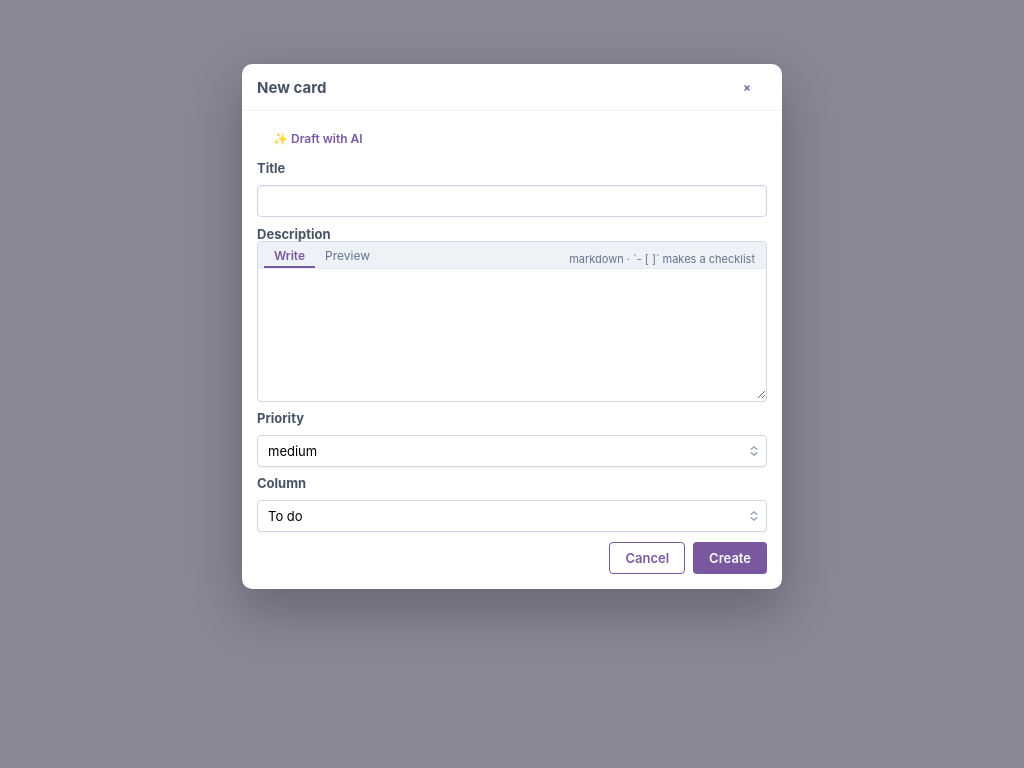
Test: DraftWithAI › shows the error code from the stream and from a plain error response
Click the button "✨ Draft with AI". click: x=318, y=139
box: [257, 126, 379, 152]
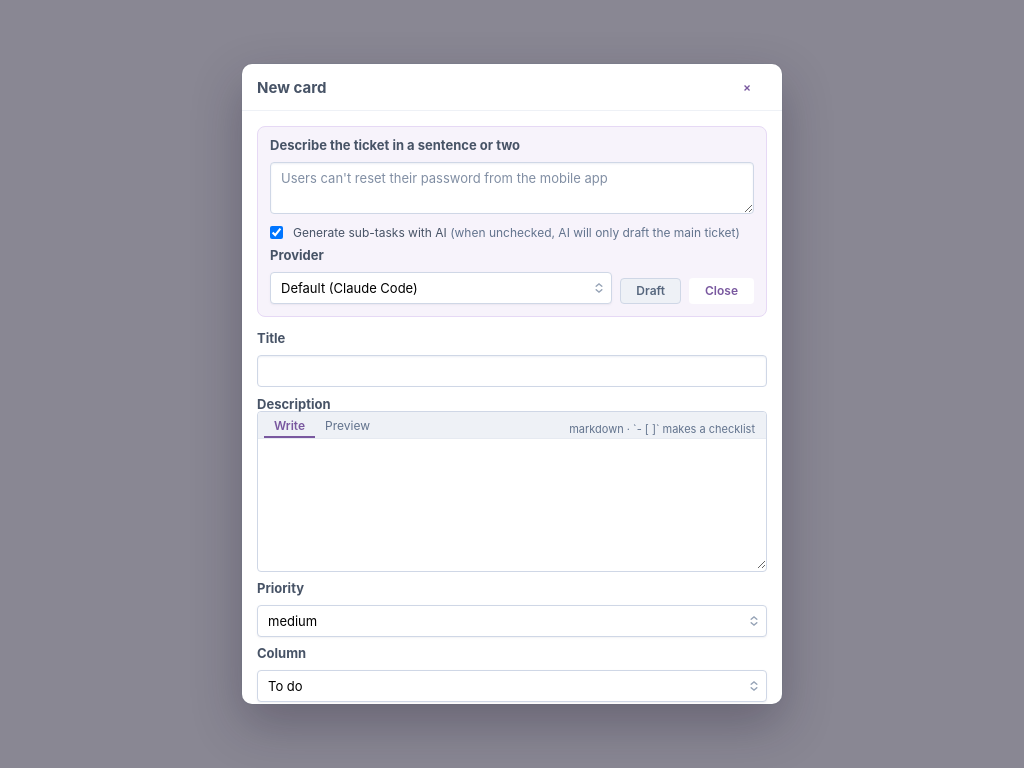
Type "x" into the text box labelled "Describe the ticket in a sentence or two". click: x=512, y=188
box: [270, 162, 754, 214]
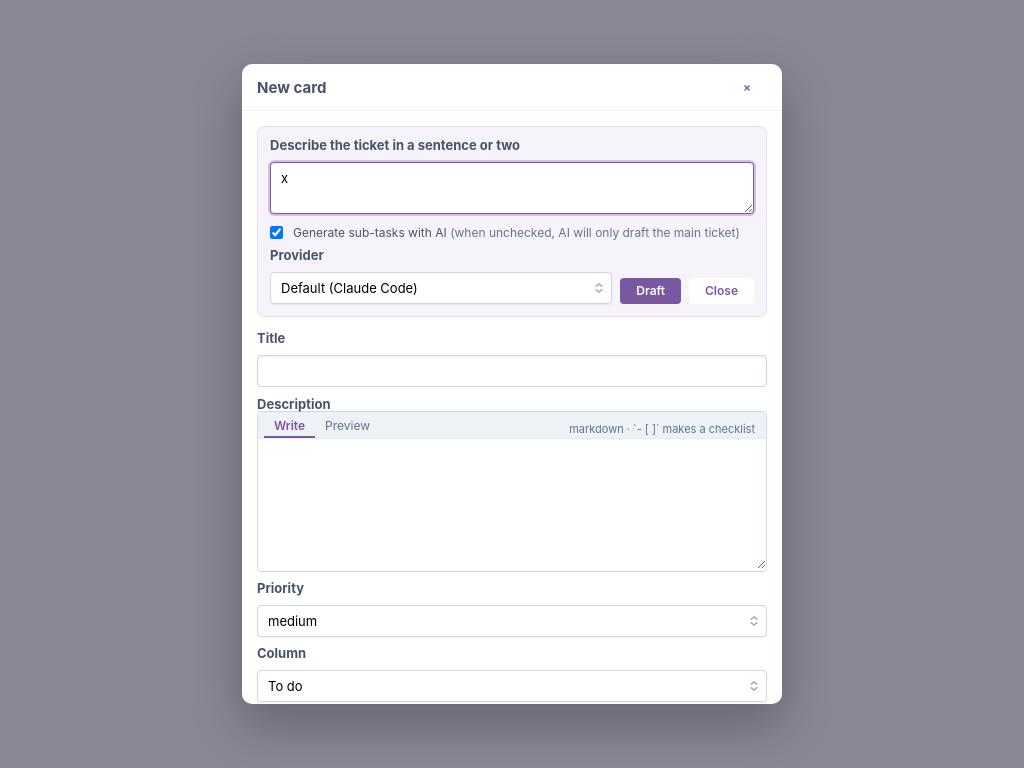
Click the button "Draft". click: x=651, y=291
box: [620, 278, 681, 304]
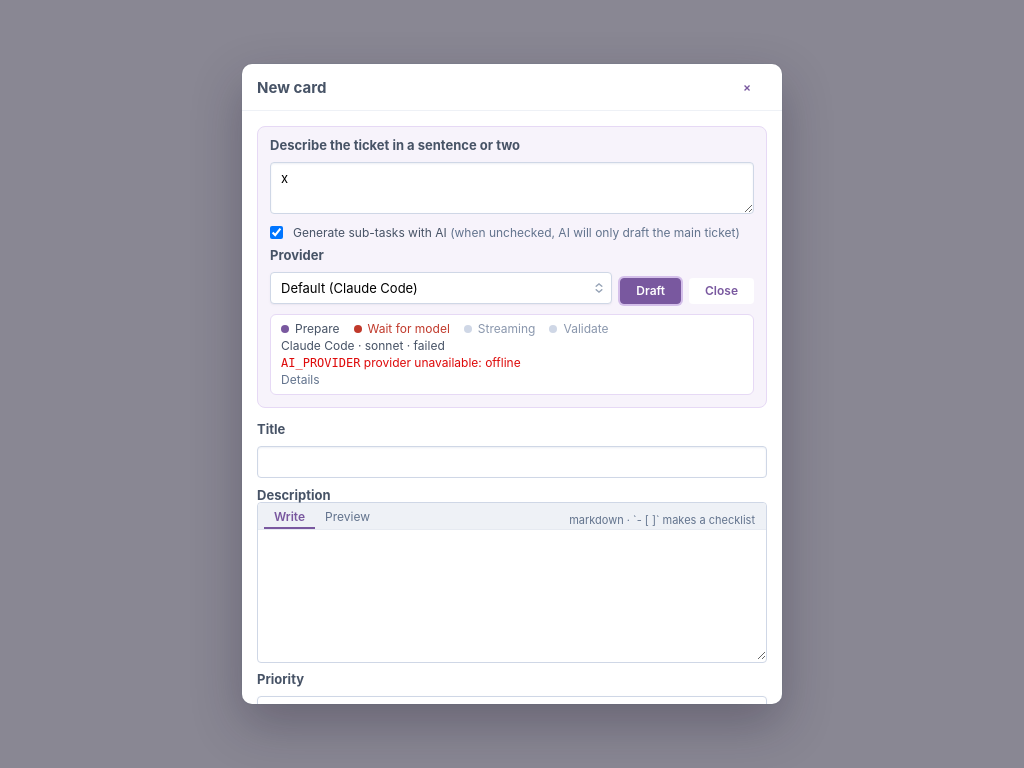
Expected: the text "provider unavailable: offline" is shown, [364, 355, 521, 370]
Expected: the message named "AI activity" shows "AI_PROVIDER", [281, 356, 360, 370]
Replace the text in the text box labelled "Describe the ticket in a sentence or two" with "plain". click: x=512, y=188
box: [270, 162, 754, 214]
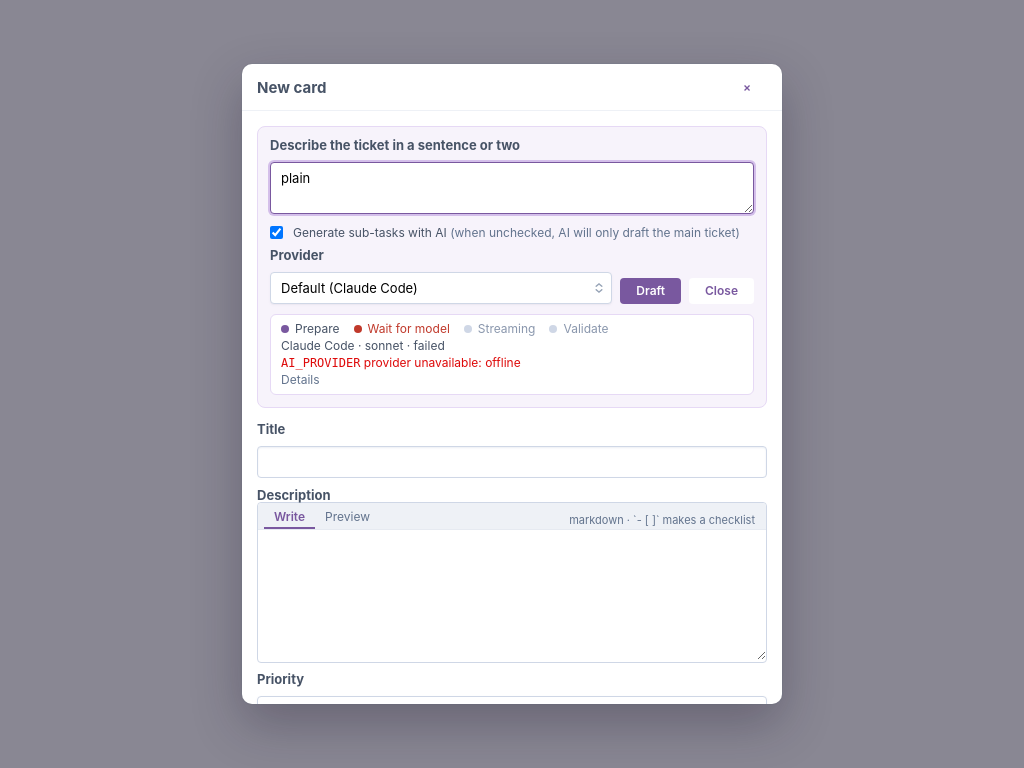
Click the button "Draft". click: x=651, y=291
box: [620, 278, 681, 304]
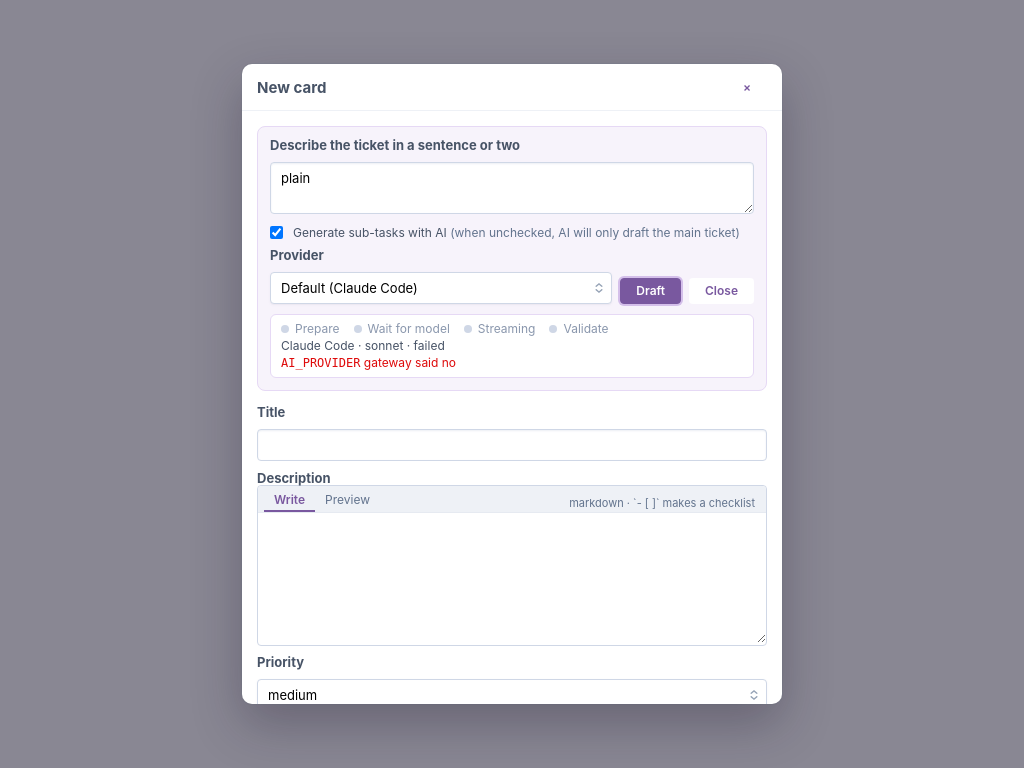
Expected: the text "gateway said no" is shown, [364, 355, 456, 370]
